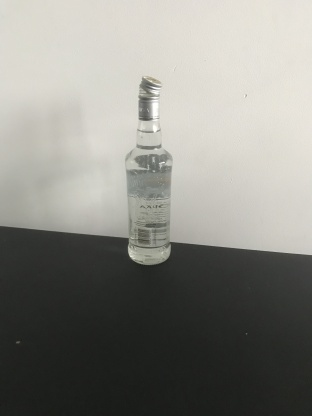nakretka: (136, 74, 163, 121)
